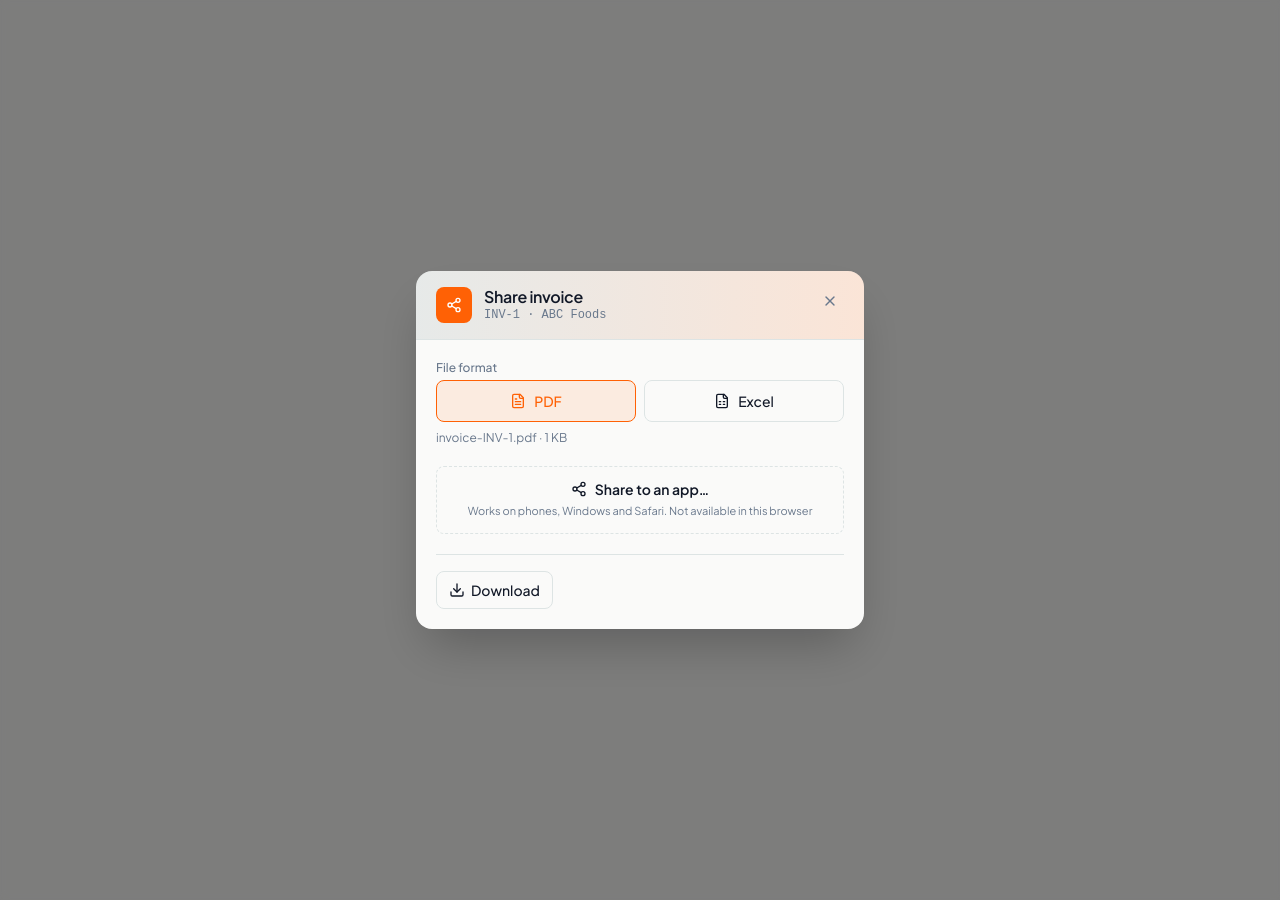
ShareInvoiceDialog › switches to Excel and prepares that file instead
This screenshot has width=1280, height=900.
Expected: the text "invoice-INV-1.pdf · 1 KB" is shown, left=436, top=430, right=567, bottom=446
Click the radio button labelled "Excel" at (744, 401), box left=644, top=380, right=844, bottom=422
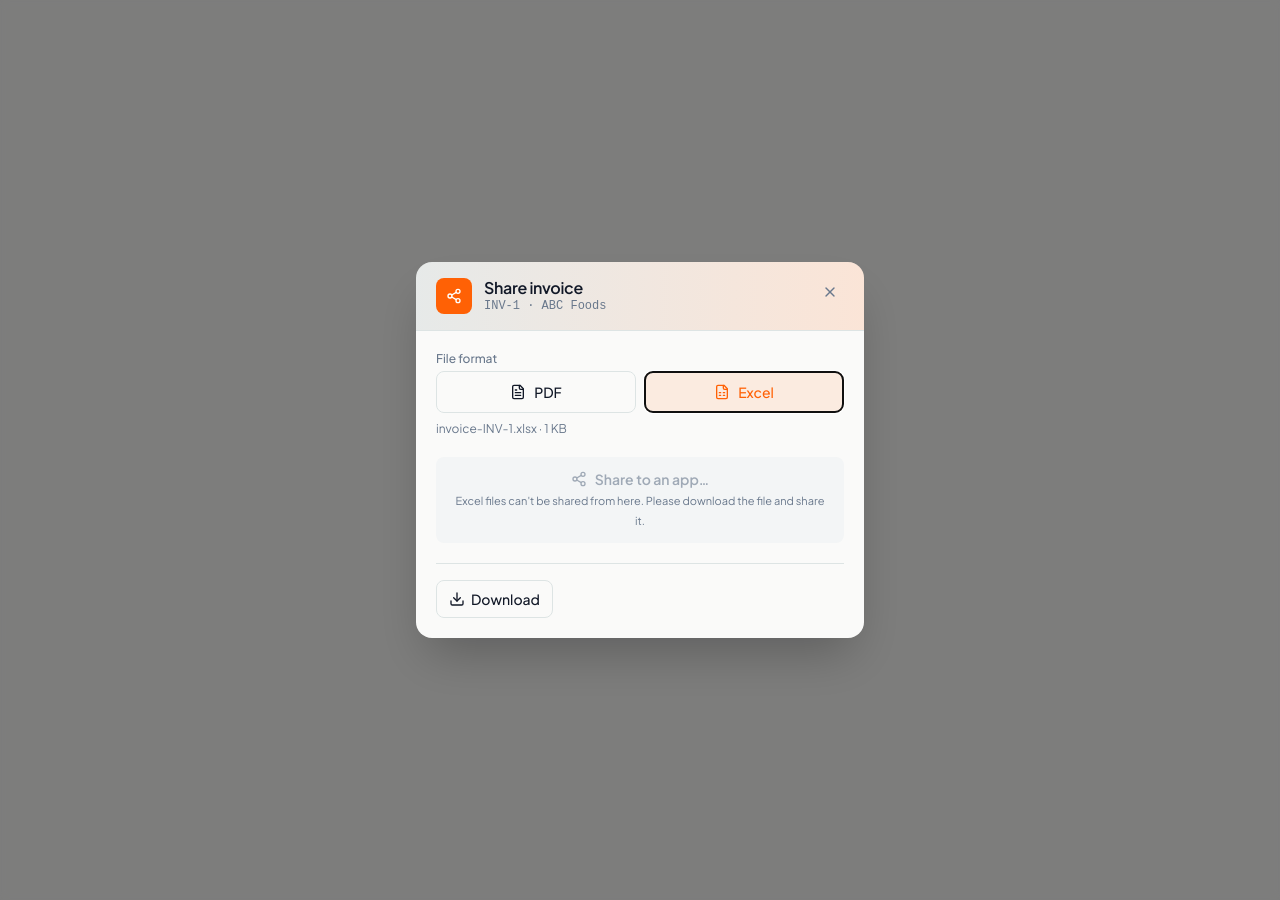
Result: the text "invoice-INV-1.xlsx · 1 KB" is shown at left=436, top=421, right=567, bottom=437
